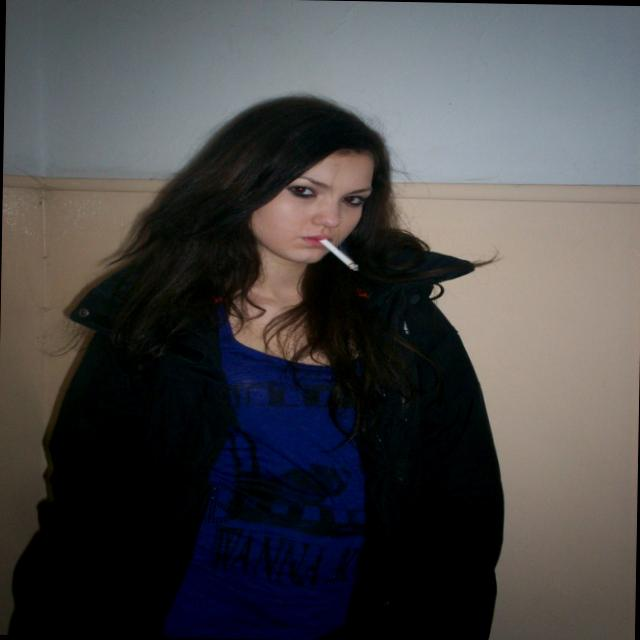cigarette: (314, 233, 367, 277)
